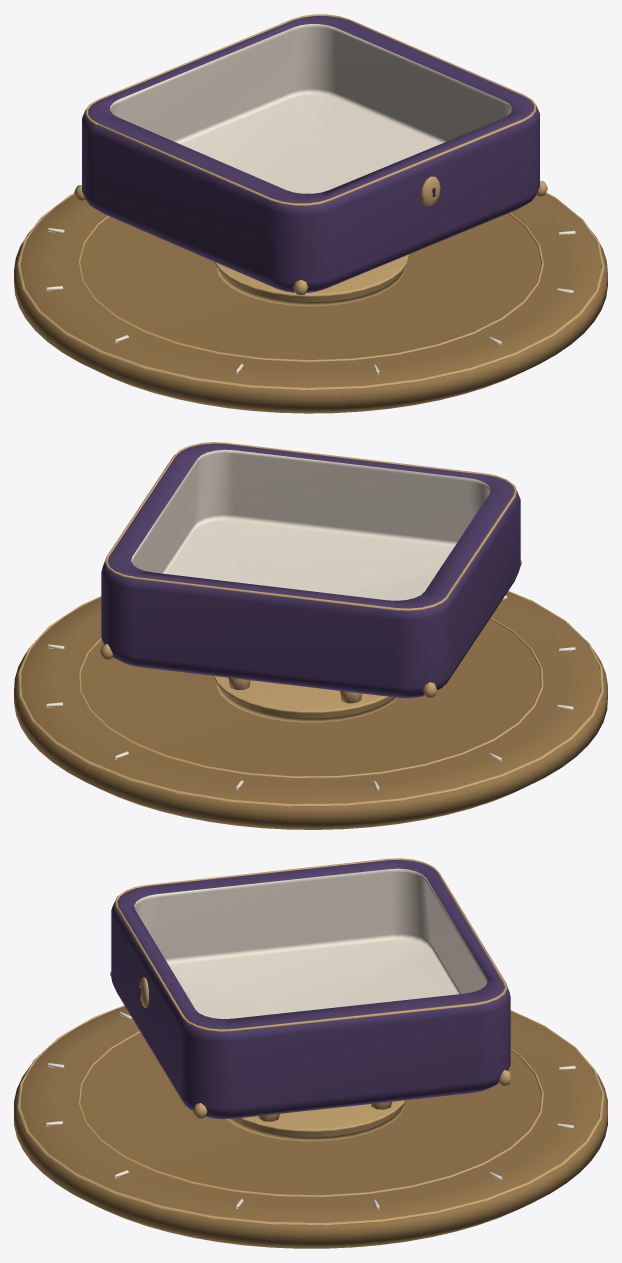
File: kart.body.trinket.glb
3 views of the same model, one above another, from view 1: azimuth 30°, elevation 25°; view 2: azimuth 150°, elevation 25°; view 3: azimuth 270°, elevation 25° (orthographic).
Visible parts, largest first — view 1: emi_vehicle_trinket; view 2: emi_vehicle_trinket; view 3: emi_vehicle_trinket.
Boxes of the visible parts, x1,y1,x2,y2 form: emi_vehicle_trinket: (14, 14, 607, 413); emi_vehicle_trinket: (14, 442, 607, 829); emi_vehicle_trinket: (14, 858, 607, 1248).
Bounding box in the file's own units: 0.48 × 0.1708 × 0.48.
